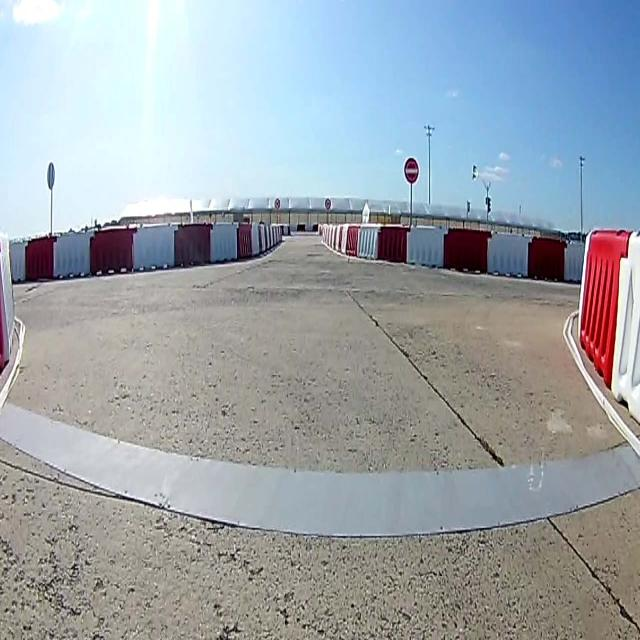girisyok: (404, 156, 419, 185)
